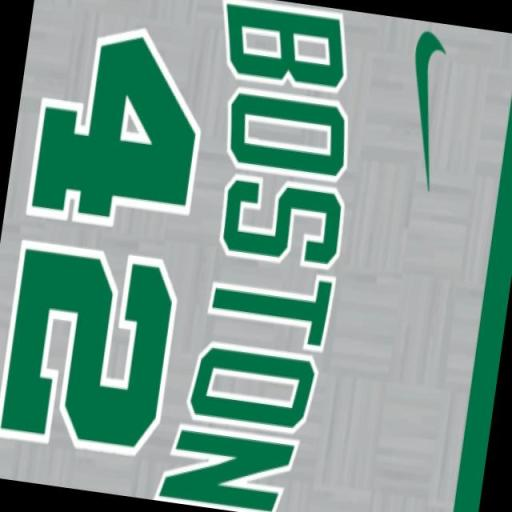Nike: (384, 20, 458, 206)
